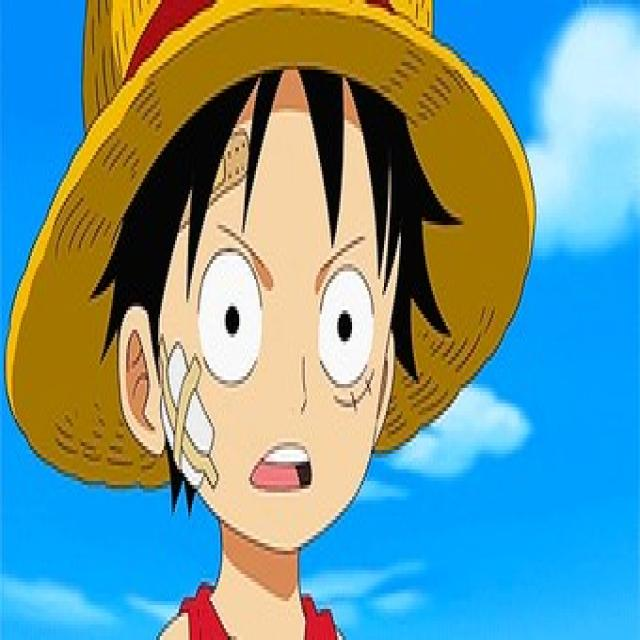Luffy: (0, 0, 516, 551)
